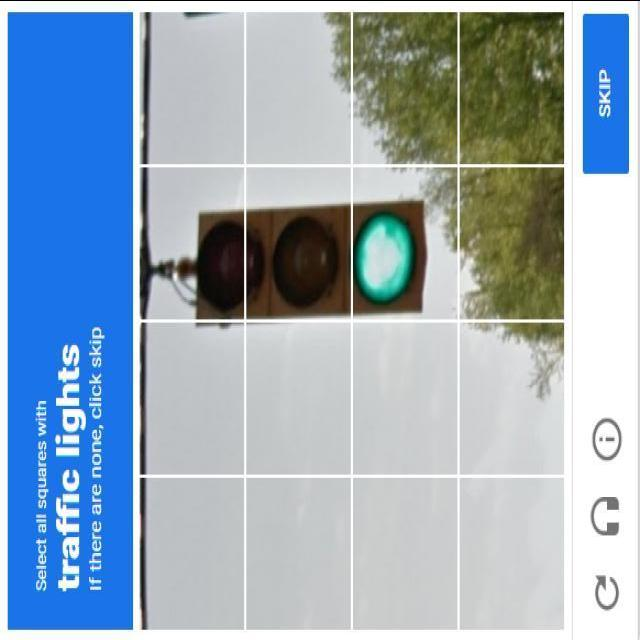green-lights: (344, 194, 420, 314)
